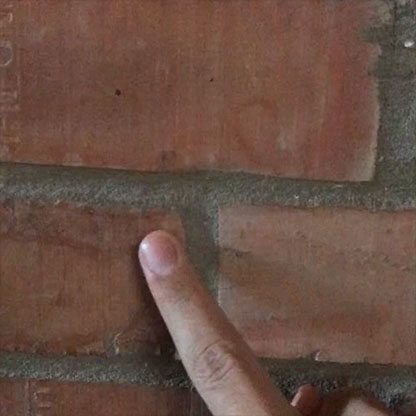fingertip: (126, 224, 194, 281)
